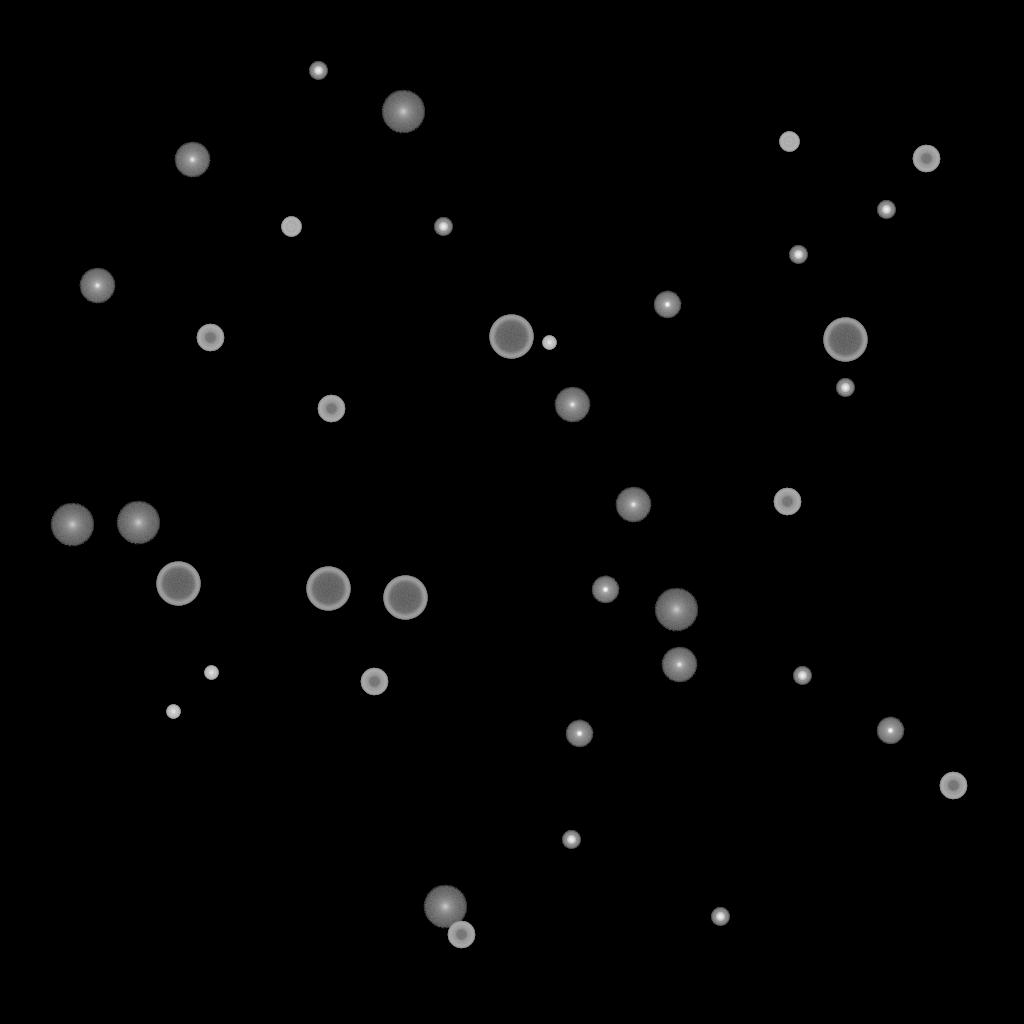depth:-10: (653, 291, 681, 319), (591, 576, 619, 604), (565, 720, 593, 748), (876, 717, 904, 745)
depth:-20: (793, 667, 811, 685), (836, 379, 854, 397), (309, 62, 327, 80), (434, 218, 452, 236), (789, 246, 807, 264), (562, 831, 580, 849), (877, 201, 895, 219), (711, 908, 729, 926)
depth:-30: (204, 666, 218, 680), (542, 336, 556, 350), (166, 705, 180, 719)
depth:-40: (281, 217, 301, 237), (779, 132, 799, 152)
depth:-50: (196, 324, 224, 352), (317, 395, 345, 423), (447, 921, 475, 949), (912, 145, 940, 173), (360, 668, 388, 696), (939, 772, 967, 800), (773, 488, 801, 516)
depth:-70: (306, 567, 350, 611), (156, 562, 200, 606), (489, 315, 533, 359), (823, 318, 867, 362), (383, 576, 427, 620)
depth:0: (615, 487, 651, 523), (554, 387, 590, 423), (79, 268, 115, 304), (661, 647, 697, 683), (174, 142, 210, 178)
depth:10: (654, 588, 698, 632), (423, 885, 467, 929), (381, 90, 425, 134), (50, 503, 94, 547), (116, 501, 160, 545)
